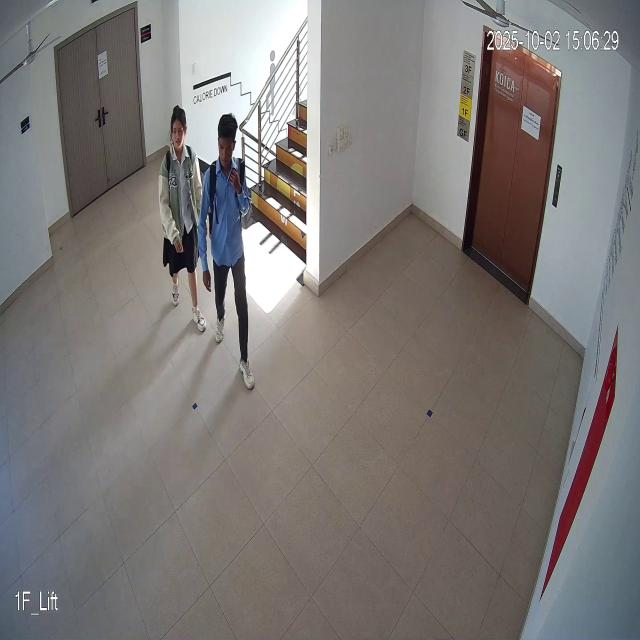face: (216, 110, 242, 174), (168, 102, 190, 154)
